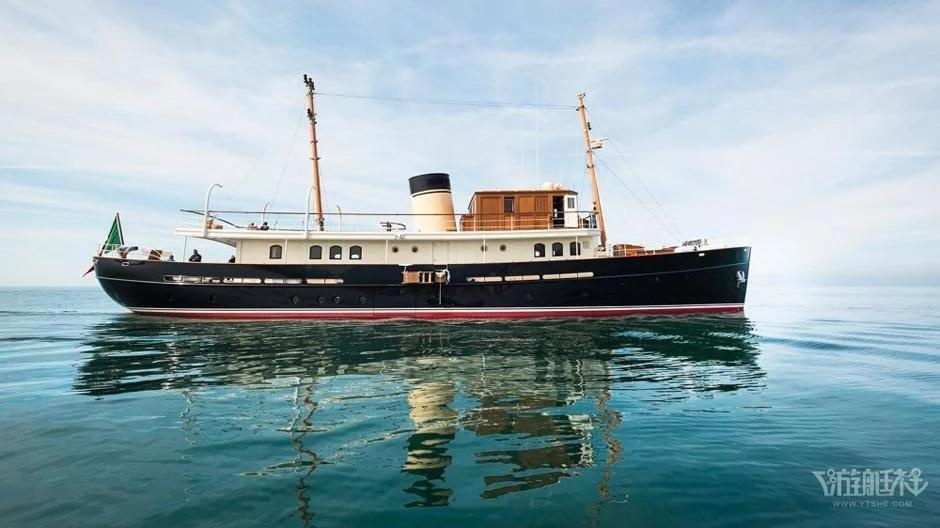otherboat: (96, 168, 770, 314)
